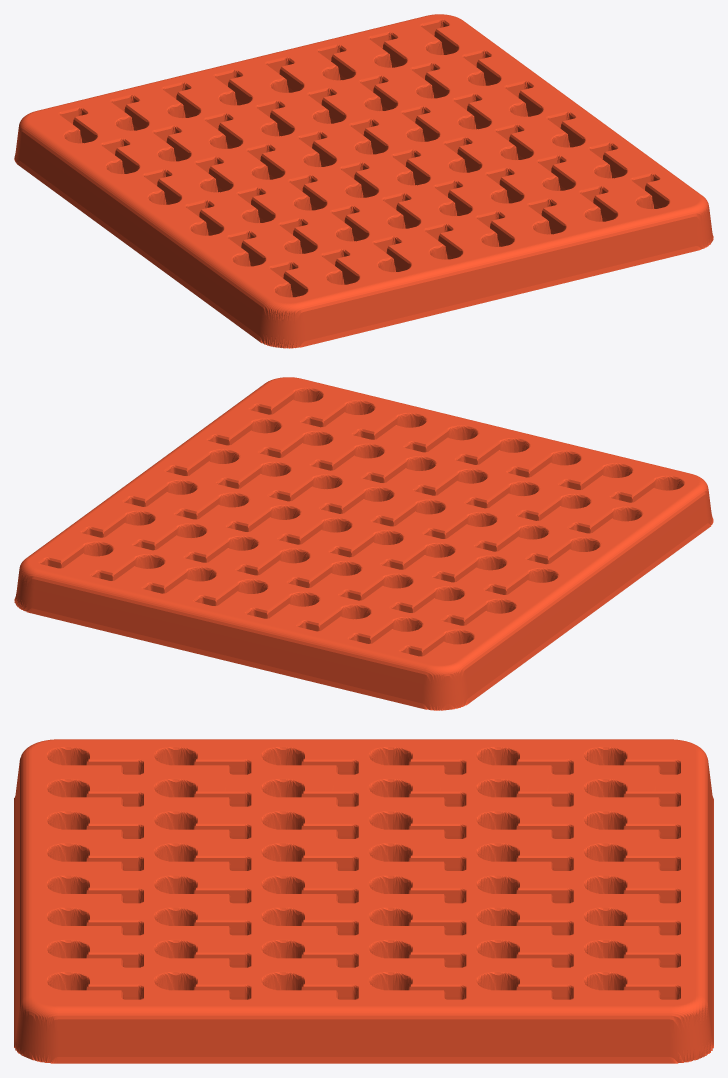
Rendered from mold.glb.
3 views of the same model, one above another, from view 1: azimuth 30°, elevation 25°; view 2: azimuth 150°, elevation 25°; view 3: azimuth 270°, elevation 25° (orthographic). The views are drawn at different scales.
Parts seen in each view (by area): view 1: geometry_0; view 2: geometry_0; view 3: geometry_0.
Boxes of the visible parts, x1,y1,x2,y2 form: geometry_0: (14,14,713,348); geometry_0: (14,377,713,710); geometry_0: (14,739,713,1063).
Size of the model in its own units: 0.1369 by 0.0114 by 0.1443.
